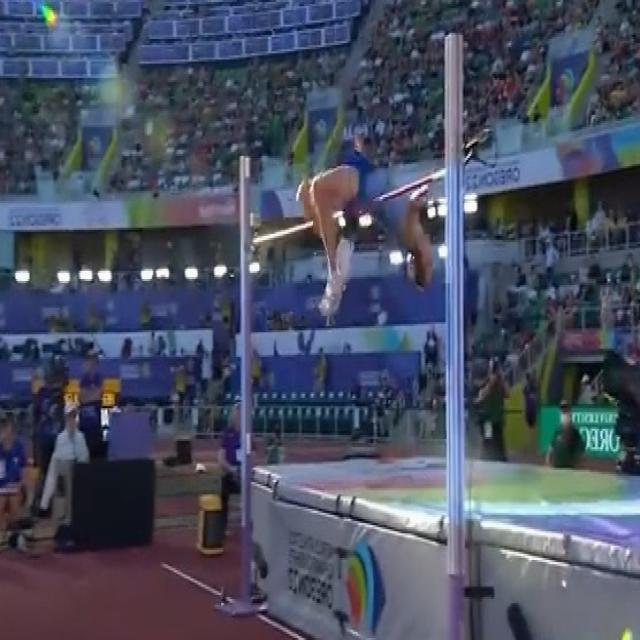jump: (297, 144, 433, 321)
